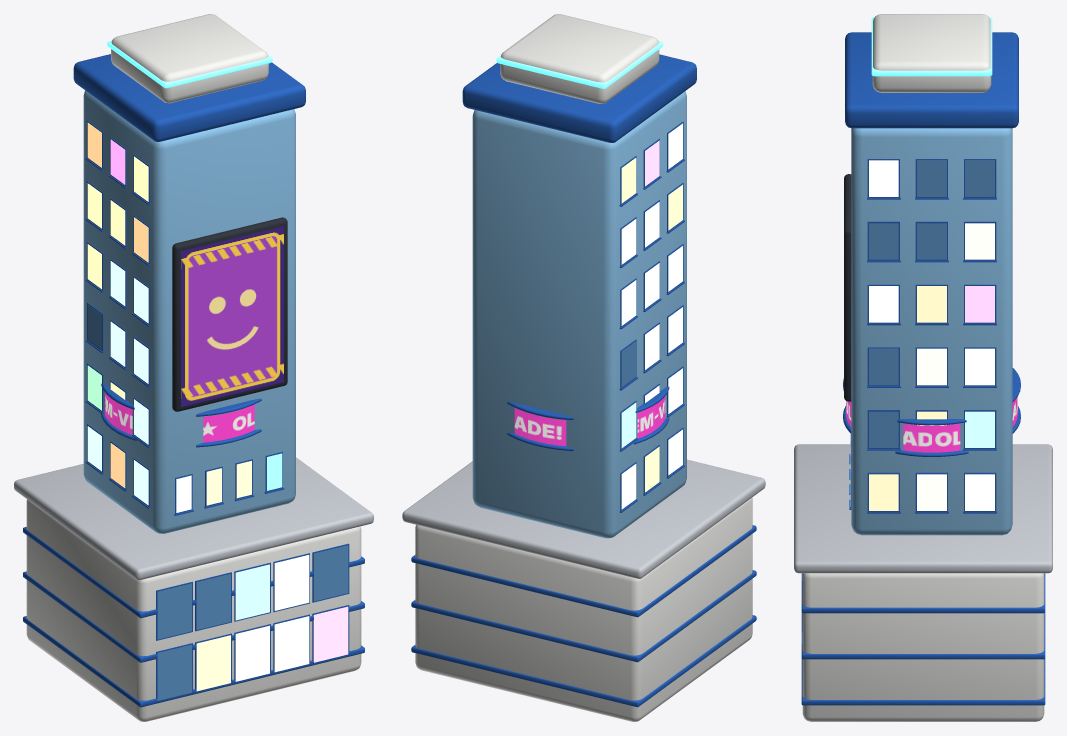
The model's file is torre_telao_sorriso.glb.
3 views of the same model, side by side, from view 1: azimuth 30°, elevation 25°; view 2: azimuth 150°, elevation 25°; view 3: azimuth 270°, elevation 25° (orthographic). The views are drawn at different scales.
Visible parts, largest first — view 1: torre_telao_sorriso, faixa_rolante; view 2: torre_telao_sorriso, faixa_rolante; view 3: torre_telao_sorriso, faixa_rolante.
Part boxes in pixels (left/top/right/bottom): torre_telao_sorriso: left=14, top=14, right=373, bottom=721; faixa_rolante: left=105, top=393, right=254, bottom=442; torre_telao_sorriso: left=402, top=14, right=765, bottom=721; faixa_rolante: left=514, top=396, right=665, bottom=446; torre_telao_sorriso: left=794, top=14, right=1052, bottom=721; faixa_rolante: left=846, top=396, right=1017, bottom=452.
Bounding box in the file's own units: 13.4 × 32.8 × 12.2.
Materials: 11 (3 with a texture image).
